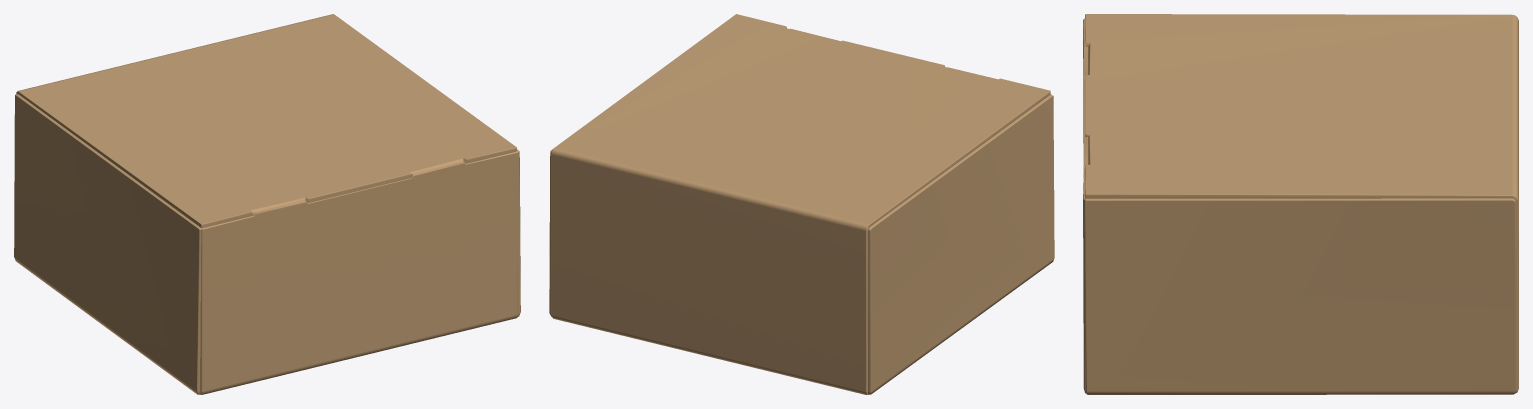
The model's file is box_cardboard_c01.glb.
The picture shows the model from 3 angles, left to right: view 1: azimuth 30°, elevation 25°; view 2: azimuth 150°, elevation 25°; view 3: azimuth 270°, elevation 25°; orthographic projection. The views are drawn at different scales.
Bounding box in the file's own units: 0.5132 × 0.2597 × 0.5106.
